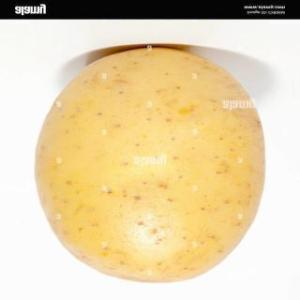potato: (34, 47, 266, 284)
